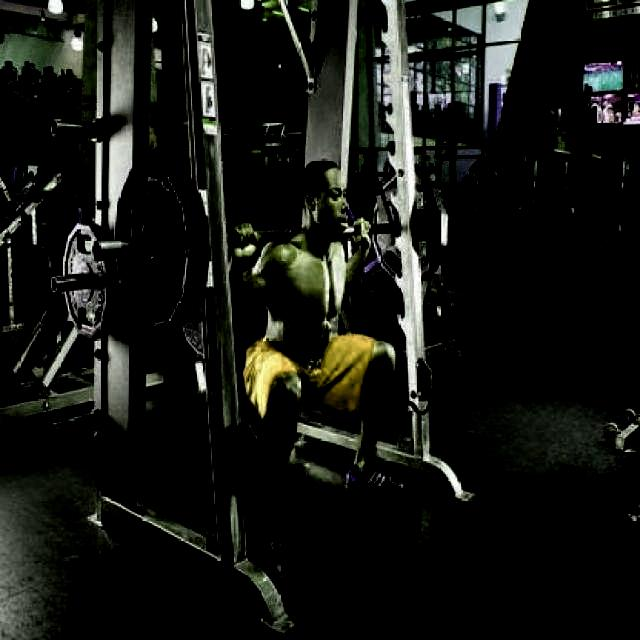barbell: (81, 146, 217, 337)
